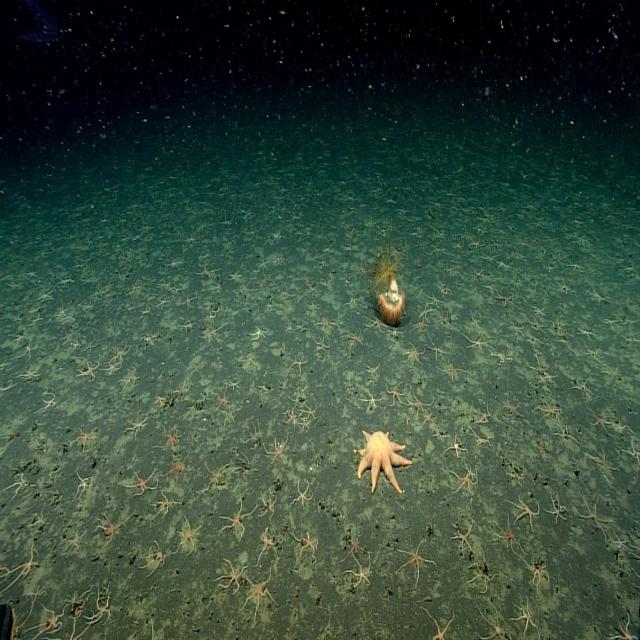brittle-stars: (398, 542, 432, 581), (580, 495, 610, 537), (245, 573, 272, 614), (477, 604, 507, 640), (222, 499, 252, 535), (513, 600, 541, 638), (421, 610, 456, 640), (512, 493, 540, 529), (133, 610, 165, 640), (496, 517, 521, 555), (5, 608, 35, 639), (176, 517, 201, 554), (37, 606, 66, 637), (96, 511, 123, 544), (219, 559, 246, 591), (16, 546, 39, 583), (129, 467, 156, 497), (613, 611, 640, 640), (347, 558, 372, 588), (472, 554, 494, 588), (167, 453, 192, 482), (143, 542, 164, 575), (359, 354, 382, 384), (93, 588, 112, 624), (453, 472, 480, 497), (452, 521, 473, 553), (296, 534, 320, 561), (207, 462, 228, 491), (587, 407, 610, 433), (547, 493, 567, 522), (589, 447, 612, 472), (156, 490, 178, 516), (528, 562, 548, 590), (59, 622, 90, 640), (64, 527, 85, 552), (267, 440, 288, 465), (9, 472, 29, 498), (260, 528, 278, 556), (74, 474, 93, 500), (127, 416, 149, 438), (75, 428, 96, 451), (345, 532, 365, 556), (538, 399, 560, 420), (443, 358, 464, 380), (26, 308, 47, 330), (386, 382, 405, 406), (295, 482, 313, 506), (161, 427, 179, 451), (410, 393, 430, 414), (71, 591, 87, 617), (172, 317, 195, 335), (406, 342, 424, 365), (262, 492, 279, 516), (237, 455, 253, 480), (556, 424, 576, 444), (464, 334, 485, 353), (626, 437, 640, 465), (509, 461, 526, 484), (248, 422, 263, 448), (80, 360, 100, 379), (22, 362, 42, 381), (448, 437, 466, 458), (427, 338, 445, 359), (124, 367, 141, 389), (40, 390, 57, 412), (361, 390, 380, 409), (589, 285, 608, 304), (574, 378, 592, 398), (492, 348, 512, 366), (529, 356, 548, 374), (503, 398, 520, 418), (29, 582, 46, 602), (22, 340, 38, 361), (473, 432, 492, 449), (139, 297, 153, 320), (174, 380, 190, 400), (152, 390, 166, 412), (584, 344, 602, 361), (495, 290, 513, 307), (346, 330, 363, 348), (113, 342, 130, 360), (365, 317, 383, 334), (614, 532, 630, 551), (31, 511, 46, 531), (222, 406, 237, 426), (556, 277, 572, 295), (103, 358, 121, 374), (604, 363, 620, 381), (317, 316, 334, 332), (290, 354, 306, 371), (476, 406, 491, 424), (85, 336, 100, 354), (57, 302, 72, 320), (36, 287, 54, 302), (216, 388, 230, 407), (622, 312, 638, 328), (580, 323, 595, 340), (250, 325, 266, 340), (427, 292, 442, 308), (353, 261, 368, 277), (602, 314, 618, 329), (284, 409, 298, 426), (208, 323, 222, 340), (315, 335, 329, 352), (182, 293, 196, 309), (279, 284, 293, 300), (142, 333, 156, 349), (200, 266, 216, 280), (554, 320, 568, 336), (470, 267, 486, 281), (0, 556, 10, 578), (341, 270, 352, 290), (305, 405, 319, 420), (418, 306, 432, 321), (541, 373, 556, 387), (527, 334, 541, 349), (59, 275, 74, 289), (0, 380, 11, 399), (568, 261, 584, 274), (220, 212, 233, 228), (245, 351, 257, 368), (48, 489, 60, 506), (632, 542, 640, 567), (439, 310, 450, 328), (511, 321, 525, 335), (157, 295, 171, 309), (228, 377, 242, 391), (240, 282, 254, 296), (529, 318, 544, 331), (413, 319, 428, 332), (574, 235, 589, 248), (84, 299, 97, 314), (300, 417, 312, 433), (230, 270, 244, 283), (468, 237, 482, 250), (440, 281, 452, 296), (496, 260, 511, 272), (469, 312, 480, 328), (615, 419, 626, 435), (290, 392, 301, 408), (63, 330, 74, 346), (445, 265, 458, 278), (517, 237, 530, 250), (131, 280, 143, 294), (70, 338, 82, 352), (262, 272, 274, 286), (483, 251, 497, 263), (422, 411, 434, 425), (259, 258, 271, 272), (484, 280, 496, 294), (532, 305, 544, 318), (308, 302, 321, 314), (207, 310, 218, 324), (390, 326, 402, 338), (158, 279, 170, 291), (452, 240, 464, 252), (27, 268, 39, 280), (491, 239, 503, 251), (432, 199, 444, 211), (465, 463, 476, 476), (348, 294, 359, 307), (0, 357, 9, 372), (476, 224, 488, 235), (295, 320, 306, 332), (431, 242, 443, 253), (171, 283, 182, 295), (479, 213, 490, 225), (273, 230, 283, 243), (284, 320, 293, 334), (438, 230, 449, 241), (544, 235, 555, 246), (322, 278, 332, 290), (186, 235, 196, 246), (318, 257, 328, 268), (0, 443, 5, 465), (346, 191, 356, 202), (398, 206, 407, 217)
